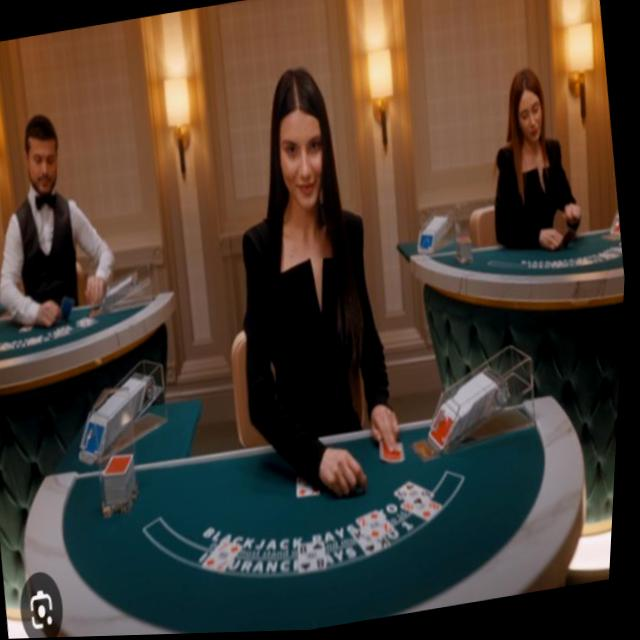Card-2: (362, 511, 400, 541)
Card-6: (400, 483, 439, 509)
Card-7: (208, 539, 248, 575)
Card-8: (304, 541, 332, 574), (406, 503, 448, 525)
Card-K: (358, 528, 397, 557), (302, 477, 325, 500)
